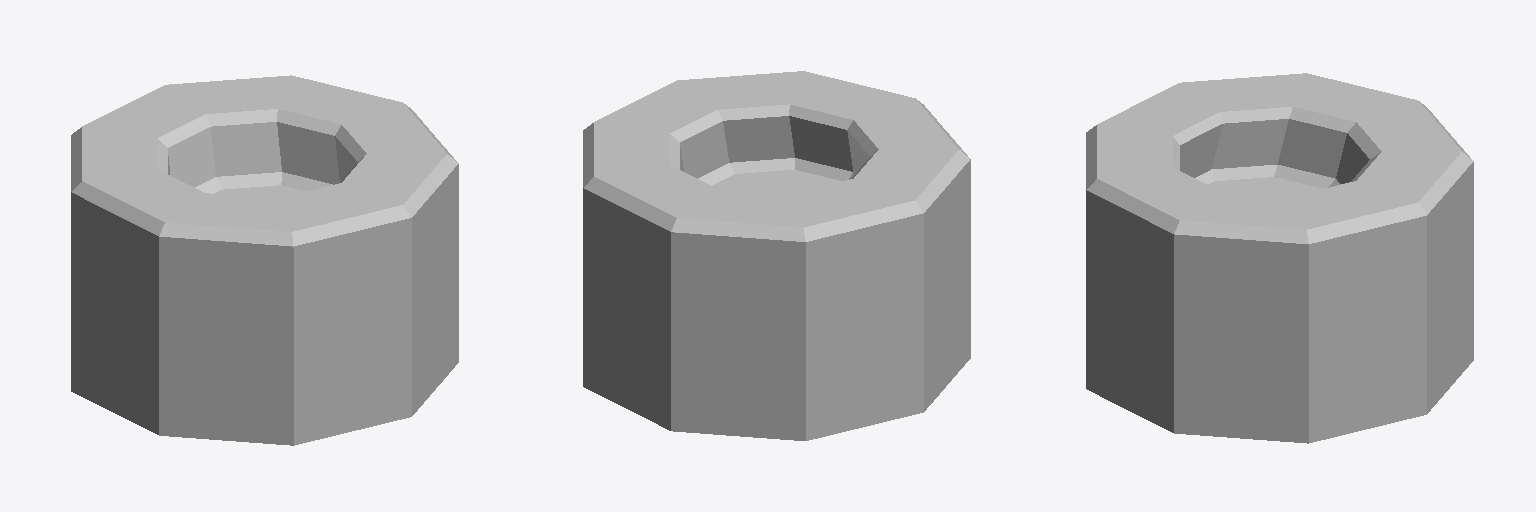
The model's file is packa_1.obj.
3 views of the same model, side by side, from view 1: azimuth 30°, elevation 25°; view 2: azimuth 150°, elevation 25°; view 3: azimuth 270°, elevation 25° (orthographic).
Visible parts, largest first — view 1: Sphere.001; view 2: Sphere.001; view 3: Sphere.001.
Part boxes in pixels (x1,y1,x2,y2): Sphere.001: (71, 75, 458, 445); Sphere.001: (583, 71, 970, 440); Sphere.001: (1086, 73, 1473, 443).
Size of the model in its own units: 0.0396 by 0.0232 by 0.039.